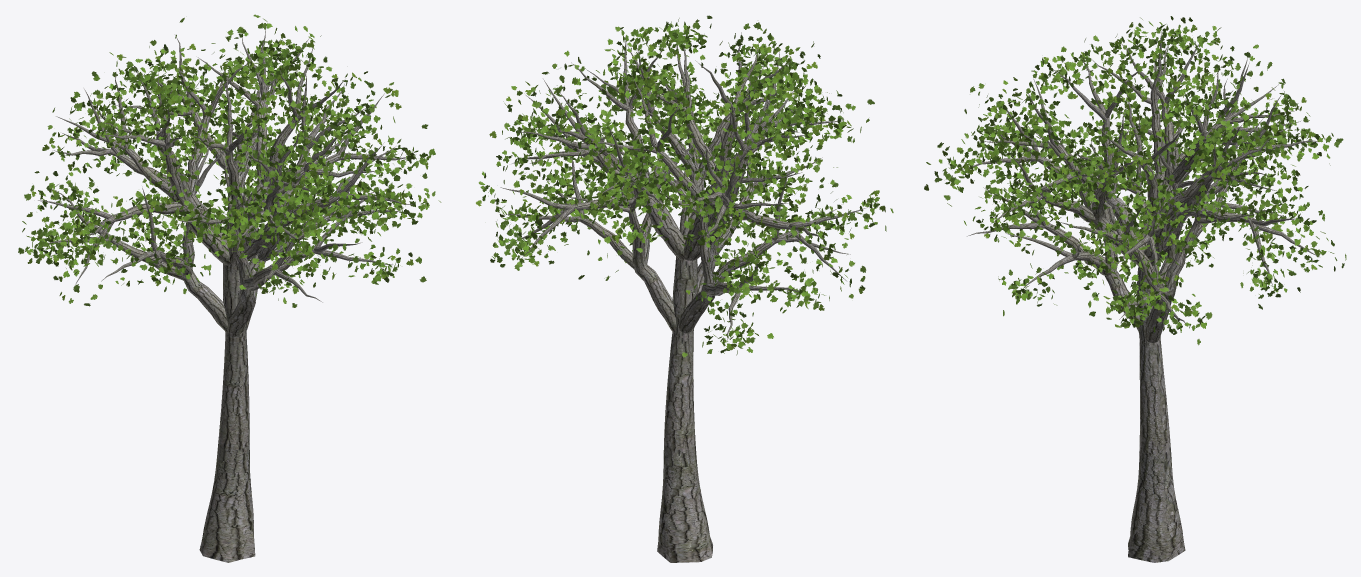
The picture shows the model from 3 angles, left to right: view 1: azimuth 30°, elevation 25°; view 2: azimuth 150°, elevation 25°; view 3: azimuth 270°, elevation 25°; orthographic projection.
Parts seen in each view (by area): view 1: Fresno foliage cards, Fresno_EasyTree_V020_Proof; view 2: Fresno foliage cards, Fresno_EasyTree_V020_Proof; view 3: Fresno foliage cards, Fresno_EasyTree_V020_Proof.
Boxes of the visible parts, x1,y1,x2,y2 form: Fresno foliage cards: (18,14,441,307); Fresno_EasyTree_V020_Proof: (38,27,415,562); Fresno foliage cards: (476,15,893,357); Fresno_EasyTree_V020_Proof: (500,32,866,562); Fresno foliage cards: (924,16,1346,345); Fresno_EasyTree_V020_Proof: (962,29,1319,562).
Size of the model in its own units: 7.34 by 9.5 by 7.21.
Materials: 2 (2 with a texture image).
